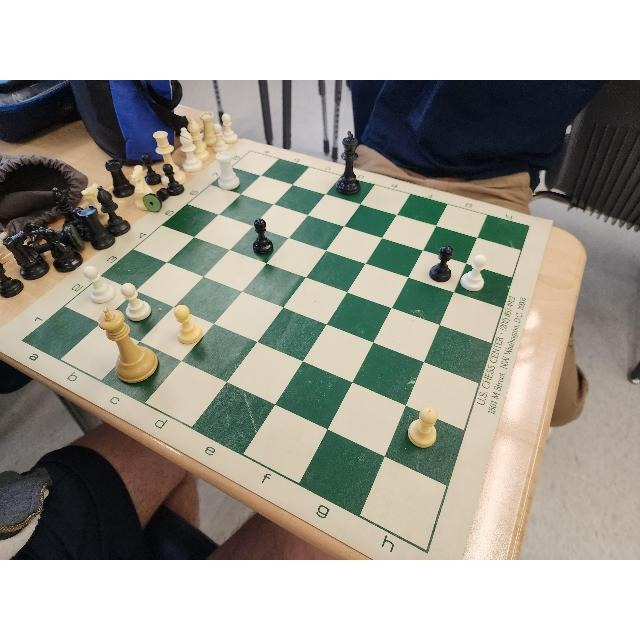black-bishop: (94, 187, 133, 235), (52, 186, 86, 234)
black-king: (336, 131, 360, 194)
black-knight: (1, 230, 50, 279), (37, 228, 83, 272)
black-pawn: (159, 164, 187, 195), (430, 246, 454, 282), (254, 219, 274, 257), (141, 152, 163, 185)
black-rook: (104, 159, 135, 198)
white-bishop: (186, 117, 210, 161), (179, 127, 202, 169)
white-king: (99, 305, 159, 382)
white-knight: (128, 164, 155, 207)
white-pawn: (172, 303, 206, 345), (118, 283, 154, 321), (408, 405, 439, 446), (85, 265, 115, 303), (461, 256, 486, 292), (205, 123, 229, 153), (218, 113, 238, 143)
white-queen: (153, 130, 187, 186)
white-rook: (80, 184, 116, 224), (208, 150, 239, 190), (200, 109, 220, 147)
